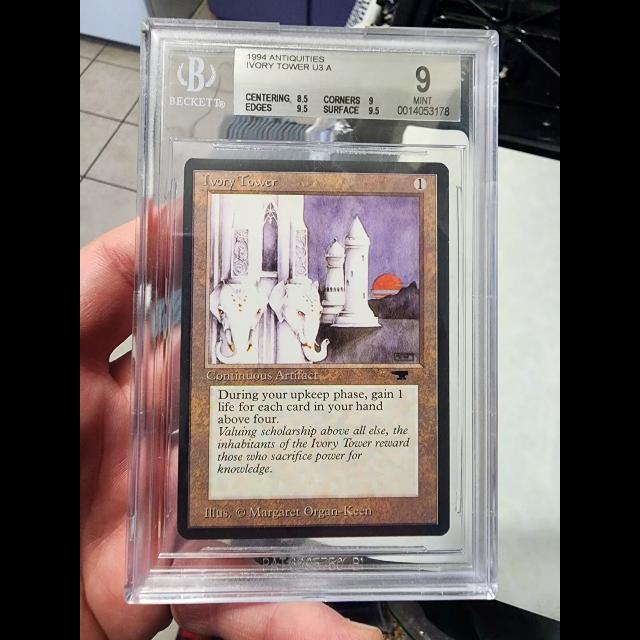bgs_label: (232, 47, 462, 122)
bgs_slab: (123, 17, 500, 605)
card: (175, 158, 450, 539)
